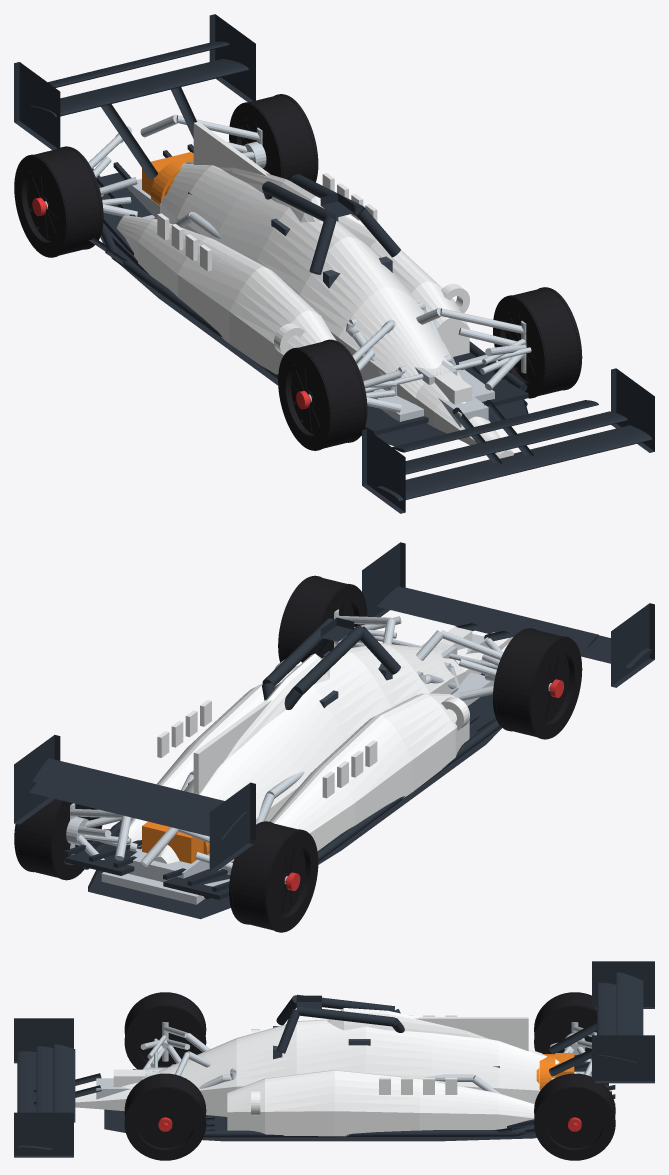
File: W11_V6_PRINTABLE_ASSEMBLED.glb
3 renders of one model, top to bottom at view 1: azimuth 30°, elevation 25°; view 2: azimuth 150°, elevation 25°; view 3: azimuth 270°, elevation 25°, orthographic. The views are drawn at different scales.
Parts seen in each view (by area): view 1: Reinforced upper body, Rolling wheel (×4), Static multi-element front wing, Static rear wing, Twin Venturi floor and diffuser, Front static suspension and steering rack, Static halo, Rear static suspension, Structural EV chassis, Removable nose and crash box, Rear motor and gearbox; view 2: Reinforced upper body, Rolling wheel (×4), Static rear wing, Static multi-element front wing, Twin Venturi floor and diffuser, Rear static suspension, Static halo, Front static suspension and steering rack, Structural EV chassis, Rear motor and gearbox; view 3: Reinforced upper body, Rolling wheel (×4), Static multi-element front wing, Static rear wing, Twin Venturi floor and diffuser, Static halo, Front static suspension and steering rack, Structural EV chassis, Removable nose and crash box, Rear motor and gearbox, Rear static suspension.
Boxes of the visible parts, <box> form: Reinforced upper body: <box>116,121,472,404</box>; Rolling wheel (×4): <box>14,94,582,450</box>; Static multi-element front wing: <box>362,368,654,513</box>; Static rear wing: <box>14,14,255,178</box>; Twin Venturi floor and diffuser: <box>89,144,528,446</box>; Front static suspension and steering rack: <box>352,307,531,421</box>; Static halo: <box>262,174,400,274</box>; Rear static suspension: <box>88,114,266,218</box>; Structural EV chassis: <box>127,179,488,427</box>; Removable nose and crash box: <box>415,382,513,458</box>; Rear motor and gearbox: <box>142,152,193,205</box>; Reinforced upper body: <box>128,626,472,863</box>; Rolling wheel (×4): <box>14,575,582,932</box>; Static rear wing: <box>14,735,255,872</box>; Static multi-element front wing: <box>362,542,654,687</box>; Twin Venturi floor and diffuser: <box>63,673,501,919</box>; Rear static suspension: <box>66,803,232,904</box>; Static halo: <box>262,617,400,709</box>; Front static suspension and steering rack: <box>333,609,503,706</box>; Structural EV chassis: <box>127,633,488,881</box>; Rear motor and gearbox: <box>142,821,209,863</box>; Reinforced upper body: <box>113,1008,576,1136</box>; Rolling wheel (×4): <box>124,992,615,1160</box>; Static multi-element front wing: <box>14,1018,101,1157</box>; Static rear wing: <box>549,961,654,1083</box>; Twin Venturi floor and diffuser: <box>104,1054,615,1141</box>; Static halo: <box>276,994,404,1053</box>; Front static suspension and steering rack: <box>140,1022,211,1080</box>; Structural EV chassis: <box>96,1064,591,1099</box>; Removable nose and crash box: <box>75,1082,138,1111</box>; Rear motor and gearbox: <box>536,1053,574,1090</box>; Rear static suspension: <box>550,1022,596,1080</box>.
Bounding box in the file's own units: 0.0748 × 0.04 × 0.2032.
